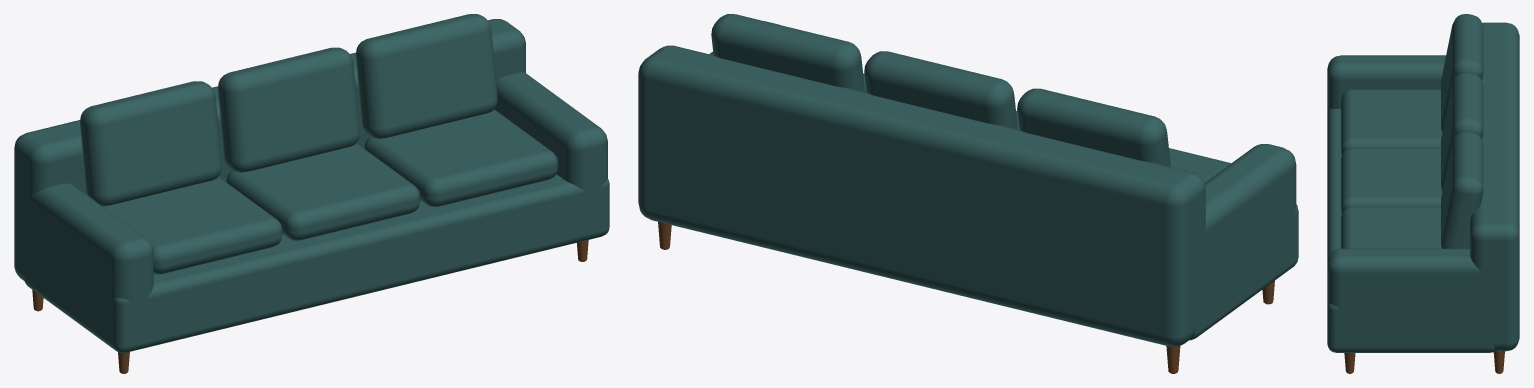
The model's file is sofa.glb.
3 renders of one model, left to right at view 1: azimuth 30°, elevation 25°; view 2: azimuth 150°, elevation 25°; view 3: azimuth 270°, elevation 25°, orthographic. The views are drawn at different scales.
Parts seen in each view (by area): view 1: toon_fabric, toon_wood; view 2: toon_fabric, toon_wood; view 3: toon_fabric, toon_wood.
Part boxes in pixels (left/top/right/bottom): toon_fabric: left=14, top=14, right=609, bottom=352; toon_wood: left=32, top=240, right=588, bottom=373; toon_fabric: left=638, top=14, right=1298, bottom=346; toon_wood: left=658, top=222, right=1274, bottom=373; toon_fabric: left=1327, top=14, right=1519, bottom=352; toon_wood: left=1344, top=351, right=1504, bottom=373.
Bounding box in the file's own units: 2.2 × 0.8753 × 0.8501.
